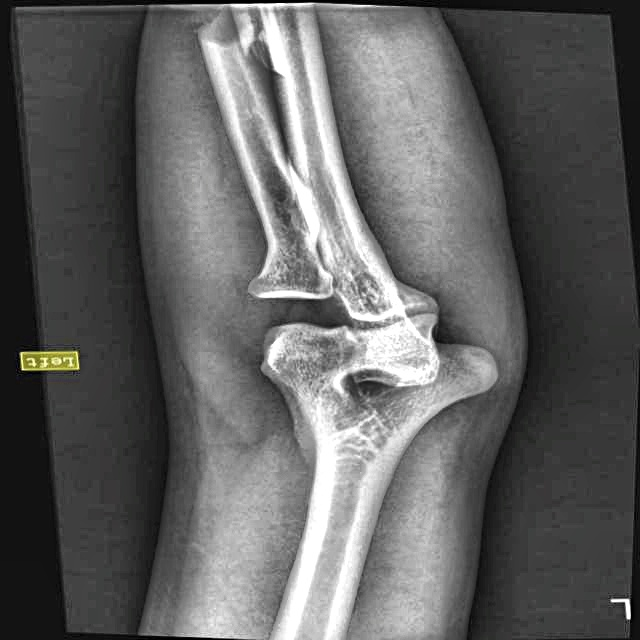Spiral: (191, 1, 313, 77)
